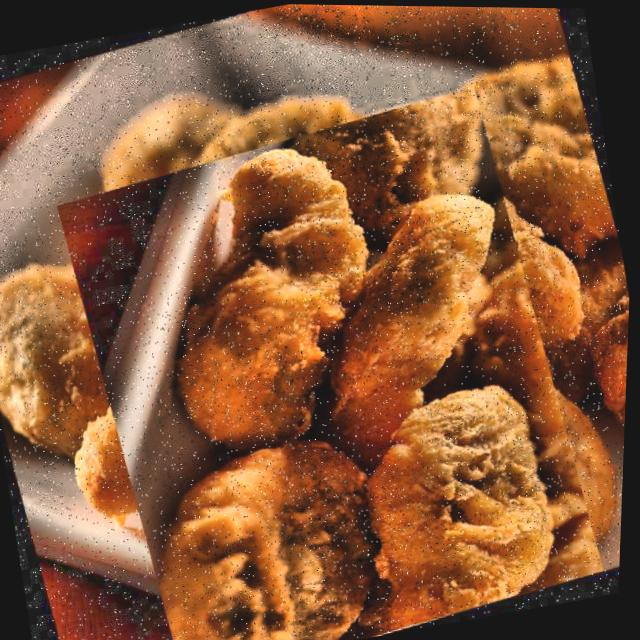Food: (17, 87, 637, 640)
